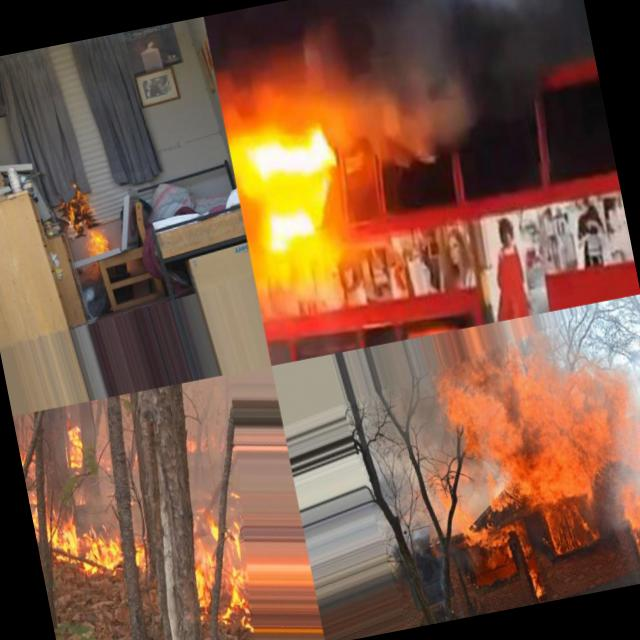fire: (218, 72, 368, 290), (440, 340, 622, 518), (45, 492, 144, 585), (176, 496, 232, 614), (598, 352, 640, 467), (458, 506, 535, 562), (16, 433, 52, 547), (544, 494, 604, 556), (62, 184, 108, 260), (59, 416, 96, 478), (430, 472, 468, 522), (615, 484, 640, 534), (526, 566, 546, 602)
smoke: (312, 0, 605, 164), (628, 320, 640, 459)
